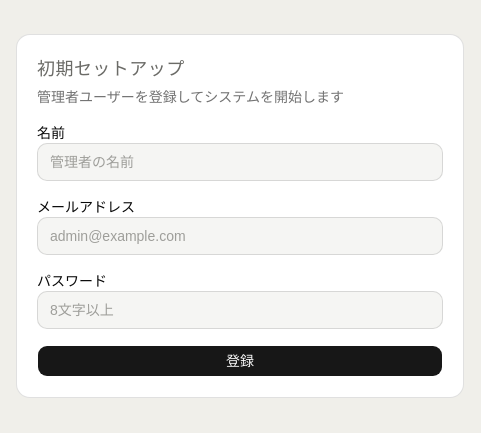
Scenario: SetupPage › shows validation error for invalid email
Type "Admin" into the field labelled "名前" at (240, 162), box [37,143,443,181]
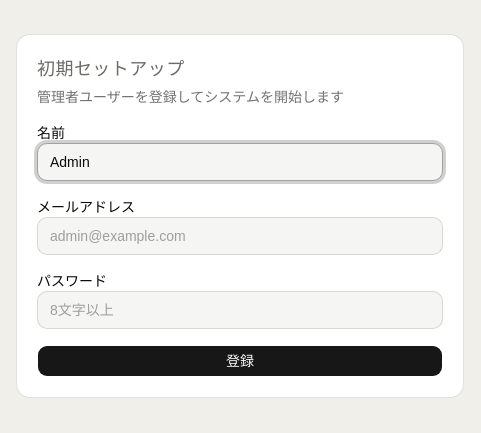
Type "not-an-email" into the field labelled "メールアドレス" at (240, 236), box [37,217,443,255]
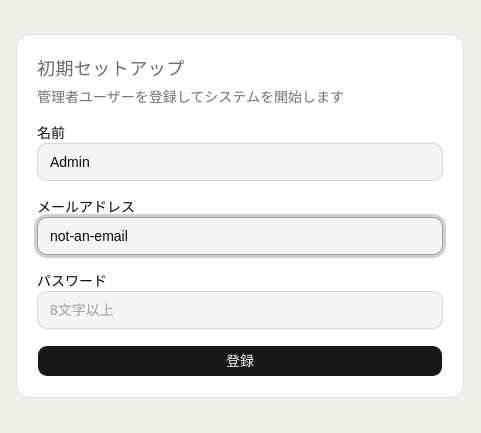
Click the button "登録" at (240, 361), box [37,345,443,377]
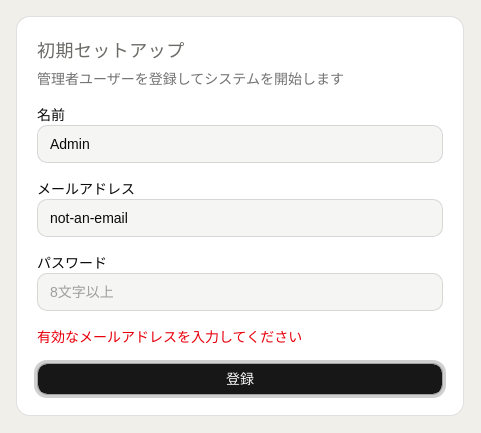
Result: the text "有効なメールアドレスを入力してください" is shown at [37,329,302,345]
